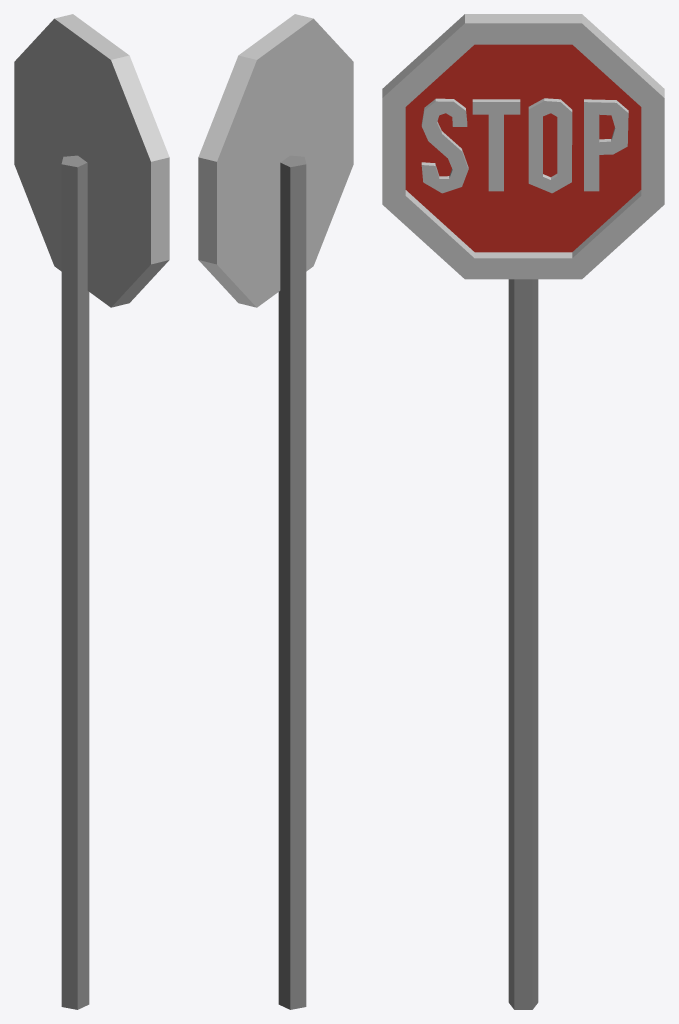
The model's file is Sign_Stop.glb.
3 renders of one model, left to right at view 1: azimuth 30°, elevation 25°; view 2: azimuth 150°, elevation 25°; view 3: azimuth 270°, elevation 25°, orthographic. The views are drawn at different scales.
Visible parts, largest first — view 1: Stop; view 2: Stop; view 3: Stop.
Boxes of the visible parts, x1,y1,x2,y2 form: Stop: (14, 14, 169, 1009); Stop: (198, 14, 353, 1009); Stop: (382, 14, 664, 1009).
Bounding box in the file's own units: 0.0233 × 0.5377 × 0.1384.
